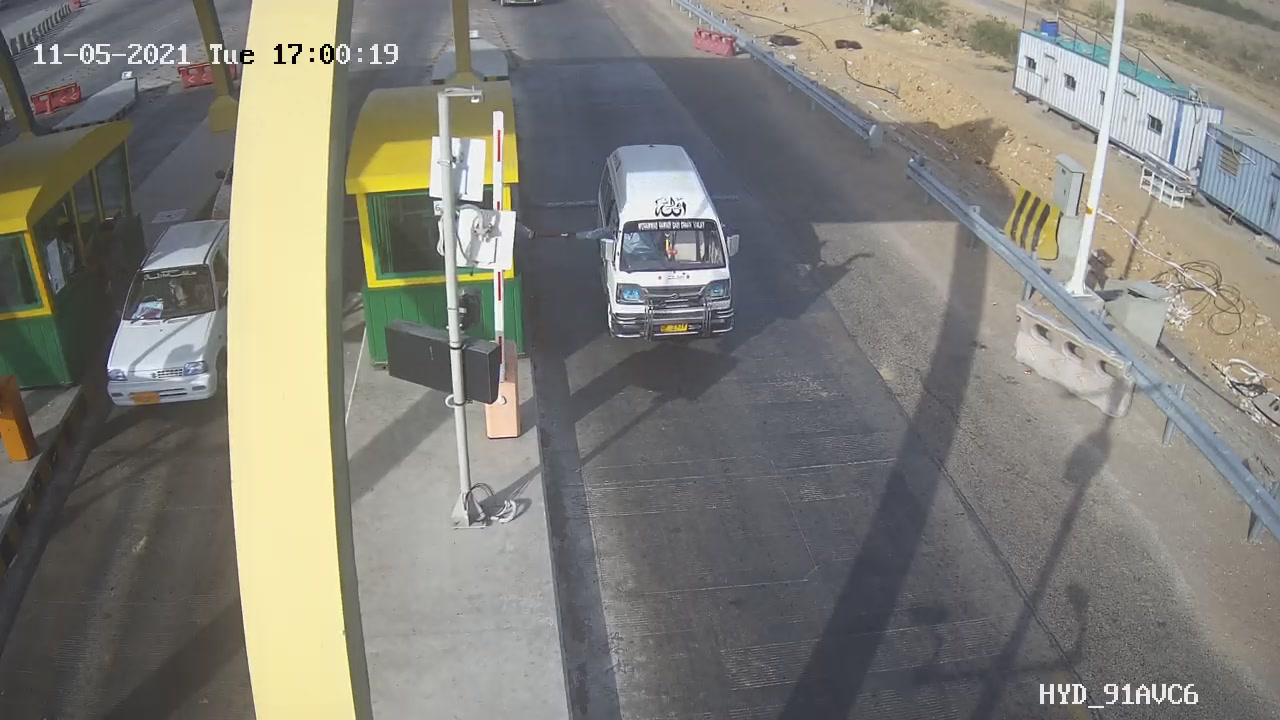F1: (579, 125, 760, 362)
